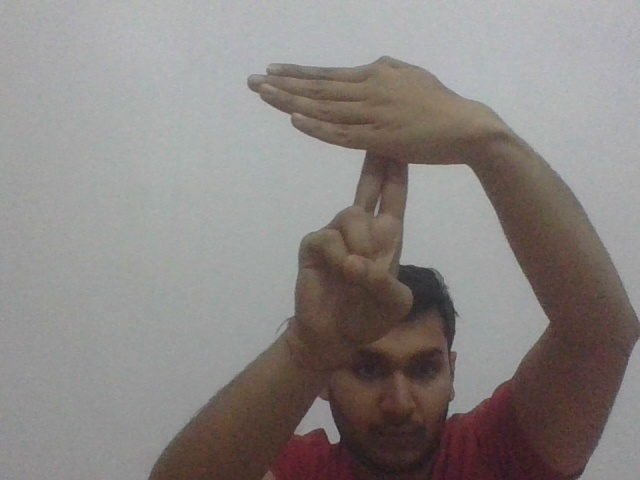N: (242, 52, 463, 216)
